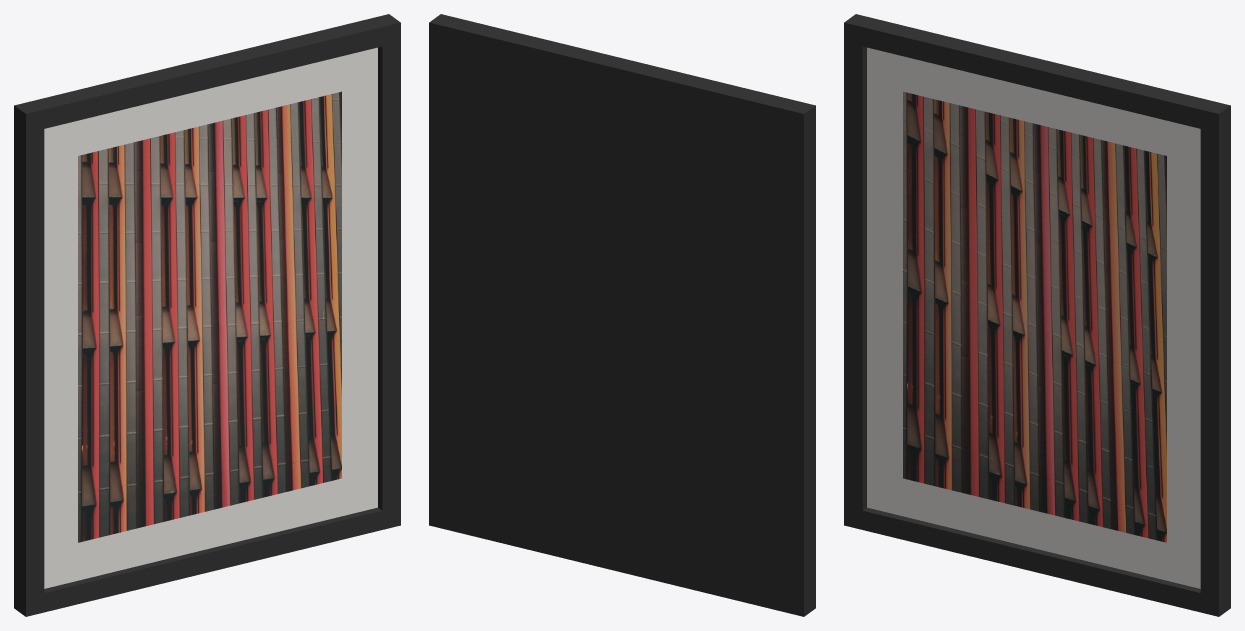
File: fasaden-40.gltf
The picture shows the model from 3 angles, left to right: view 1: azimuth 30°, elevation 25°; view 2: azimuth 150°, elevation 25°; view 3: azimuth 330°, elevation 25°; orthographic projection.
Parts seen in each view (by area): view 1: tavla; view 2: tavla; view 3: tavla.
Boxes of the visible parts, x1=… form: tavla: x1=14, y1=14, x2=400, y2=616; tavla: x1=429, y1=14, x2=815, y2=616; tavla: x1=844, y1=14, x2=1230, y2=616.
Bounding box in the file's own units: 0.4057 × 0.52 × 0.022.
Materials: 3 (1 with a texture image).
